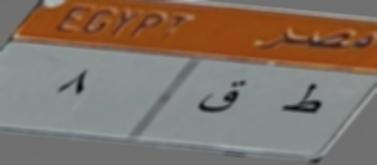8: (58, 65, 91, 100)
Taa: (278, 77, 324, 123)
qaaf: (194, 74, 248, 123)
